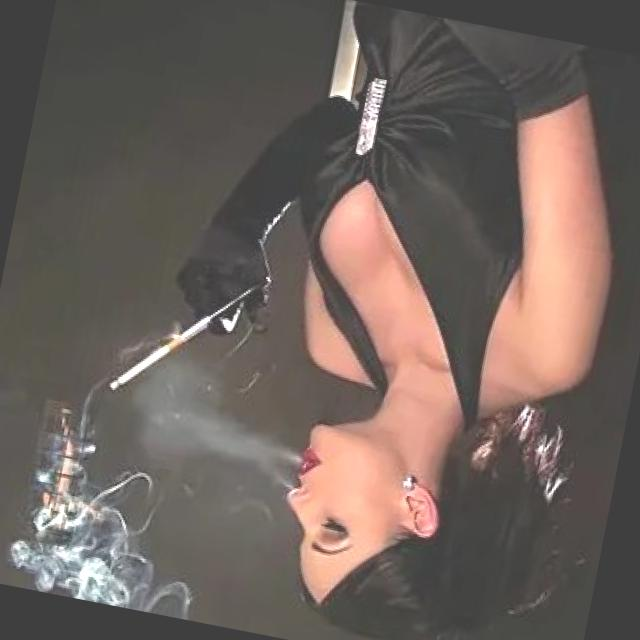smoke: (103, 272, 251, 422)
